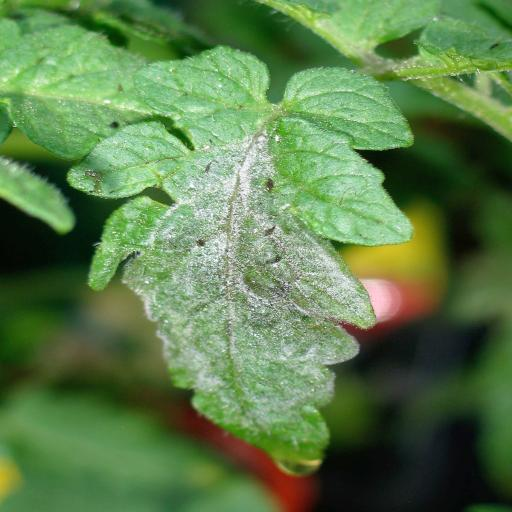disease_tomato: (70, 45, 410, 481)
